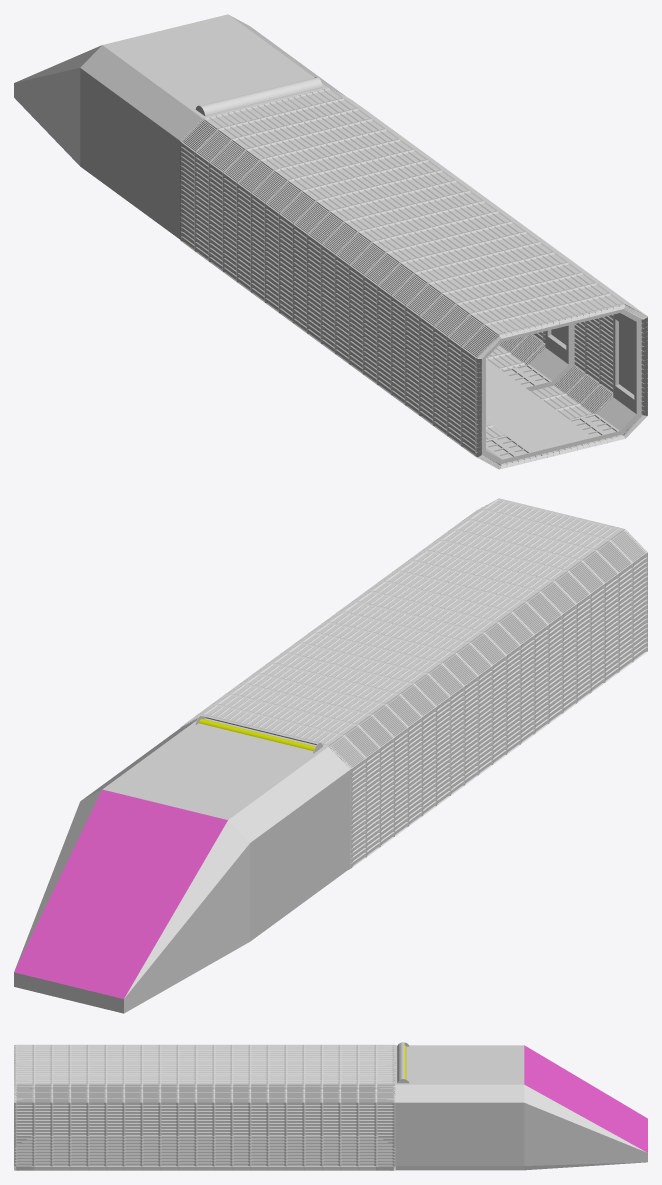
File: ship.fbx
The picture shows the model from 3 angles, top to bottom: view 1: azimuth 30°, elevation 25°; view 2: azimuth 150°, elevation 25°; view 3: azimuth 270°, elevation 25°; orthographic projection. The views are drawn at different scales.
Parts seen in each view (by area): view 1: Grate, Walls, Base, WallSegments, Floor, TubeLight; view 2: Grate, Base, Walls, Window, WallSegments; view 3: Grate, Walls, Base, WallSegments, Window, TubeLight.
Part boxes in pixels (x1,y1,x2,y2): Grate: (180, 87, 647, 469); Walls: (205, 106, 621, 447); Base: (14, 14, 346, 239); WallSegments: (183, 90, 641, 464); Floor: (486, 359, 592, 452); TubeLight: (195, 77, 322, 116); Grate: (180, 498, 647, 869); Base: (14, 718, 350, 1013); Walls: (228, 501, 644, 865); Window: (14, 789, 227, 998); WallSegments: (206, 549, 644, 843); Grate: (14, 1044, 395, 1170); Walls: (17, 1045, 391, 1165); Base: (396, 1045, 647, 1170); WallSegments: (17, 1045, 391, 1165); Window: (524, 1045, 647, 1152); TubeLight: (397, 1042, 409, 1083).
Size of the model in its own units: 808 by 633 by 4024.
